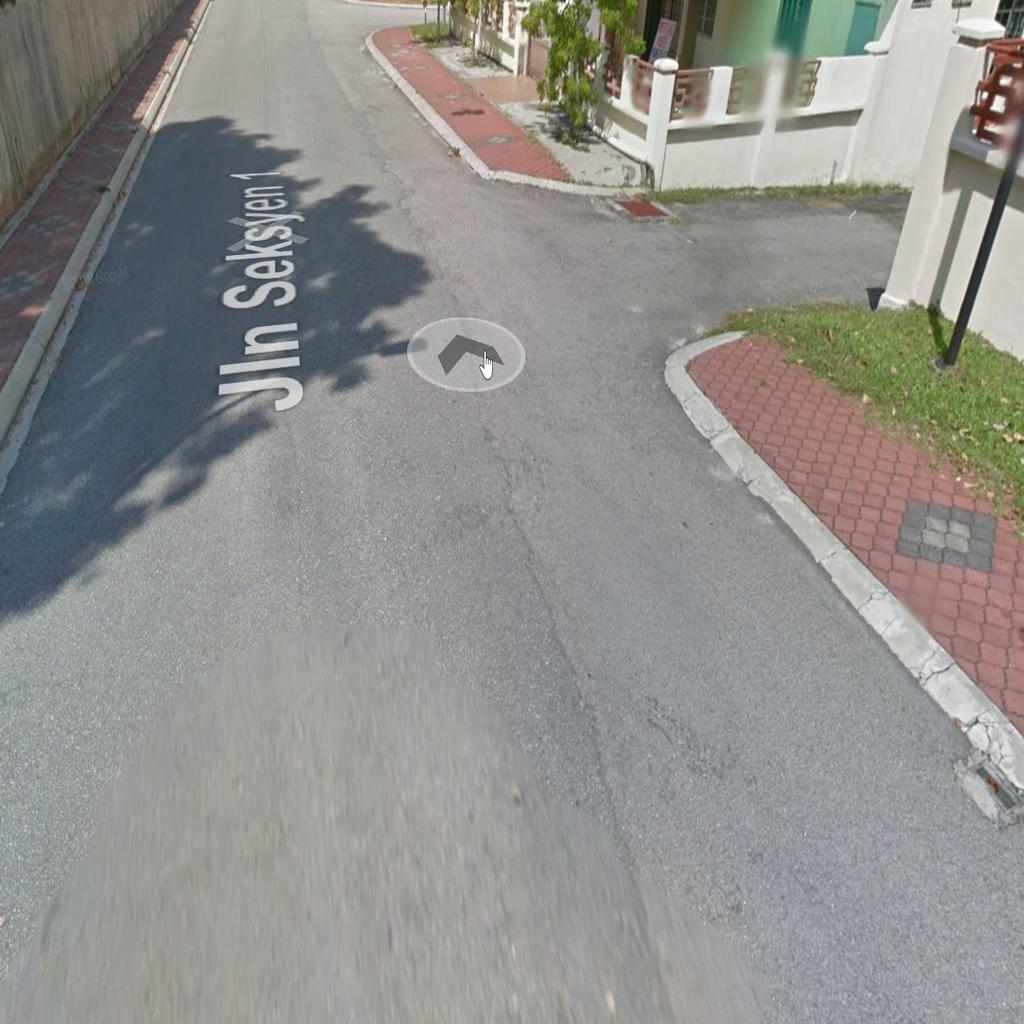Junction: (442, 137, 883, 379)
